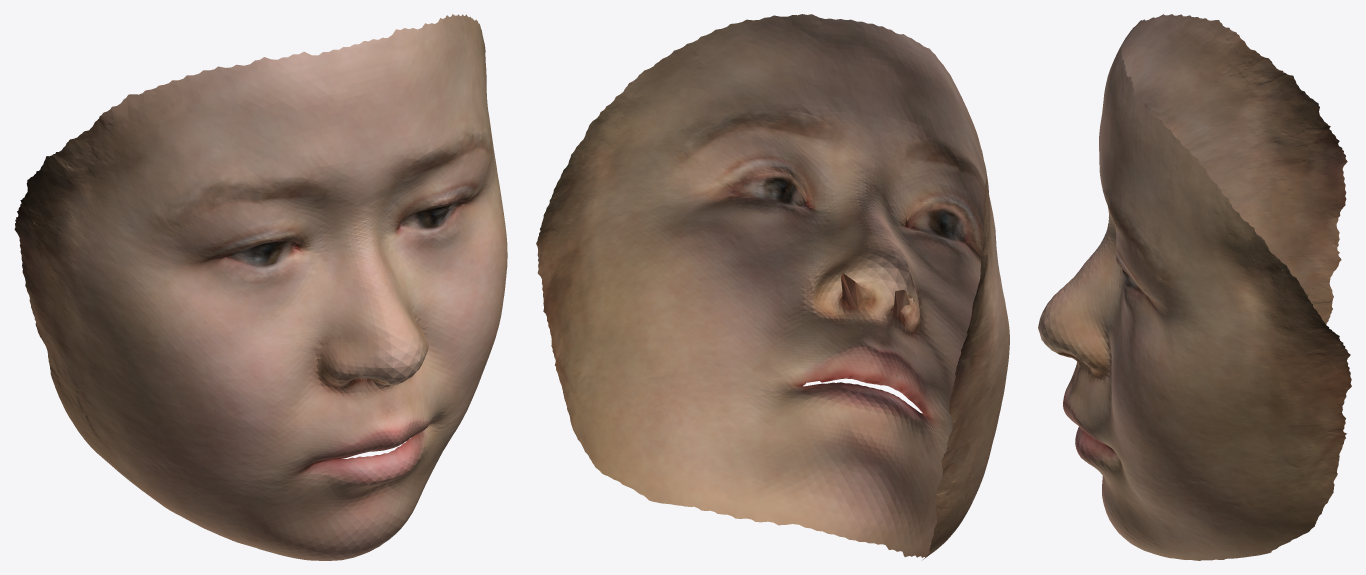
The model's file is predicted_face.obj.
3 renders of one model, left to right at view 1: azimuth 30°, elevation 25°; view 2: azimuth 150°, elevation 25°; view 3: azimuth 270°, elevation 25°, orthographic. The views are drawn at different scales.
Bounding box in the file's own units: 1.98 × 2.25 × 1.32.
